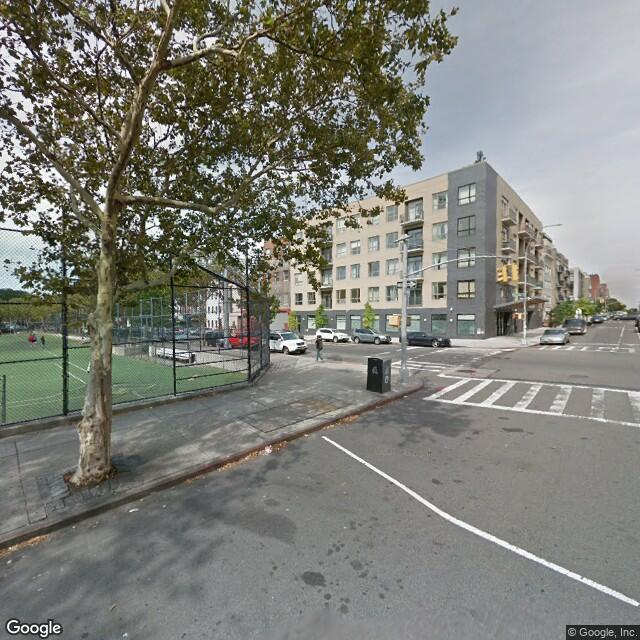litter: (263, 438, 274, 459), (108, 598, 124, 610), (124, 505, 142, 513), (210, 462, 223, 473), (3, 554, 13, 567), (33, 586, 46, 596), (57, 563, 73, 571), (33, 573, 53, 579), (400, 393, 415, 401), (68, 523, 80, 532), (122, 630, 131, 640), (161, 503, 168, 514), (306, 430, 310, 441)
